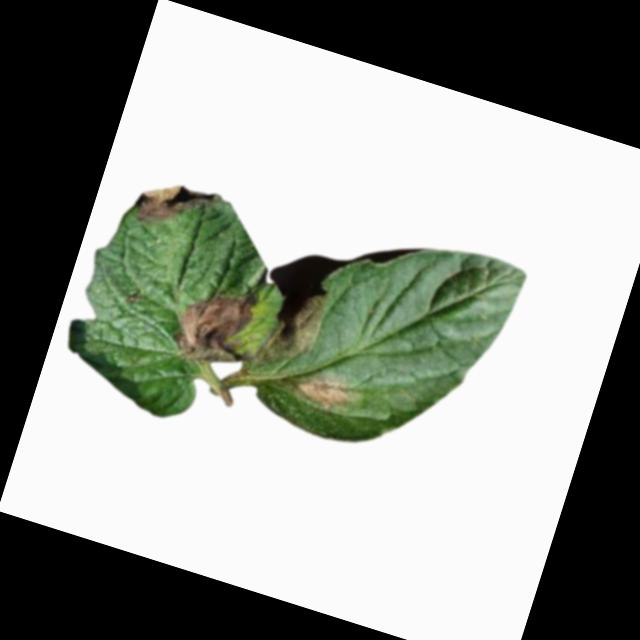Late_blight: (166, 268, 262, 375), (252, 277, 331, 379), (131, 172, 221, 240), (285, 363, 358, 418), (124, 289, 140, 306)
